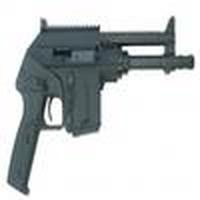gun: (9, 31, 191, 186)
